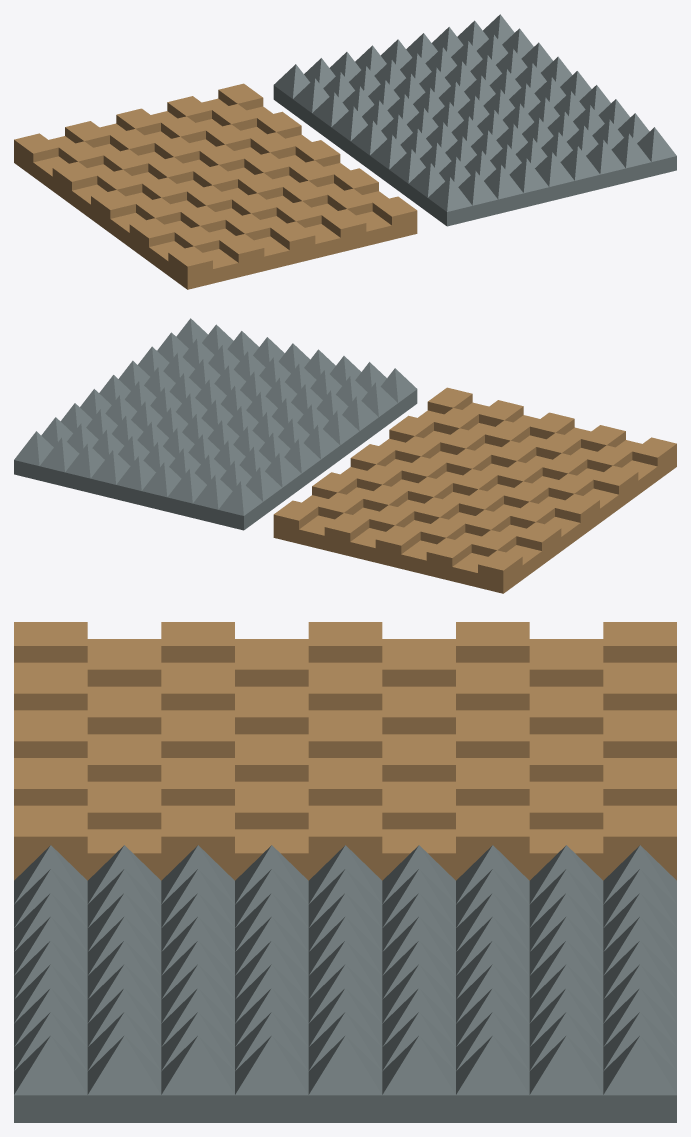
File: Obstaculos.fbx
3 renders of one model, top to bottom at view 1: azimuth 30°, elevation 25°; view 2: azimuth 150°, elevation 25°; view 3: azimuth 270°, elevation 25°, orthographic. The views are drawn at different scales.
Visible parts, largest first — view 1: Picos, Arena; view 2: Picos, Arena; view 3: Picos, Arena.
Part boxes in pixels (x1,y1,x2,y2): Picos: (273,14,676,226); Arena: (14,83,417,289); Picos: (14,318,417,530); Arena: (273,387,676,593); Picos: (14,845,676,1122); Arena: (14,622,676,880).
Bounding box in the file's own units: 1356 × 105 × 833.
